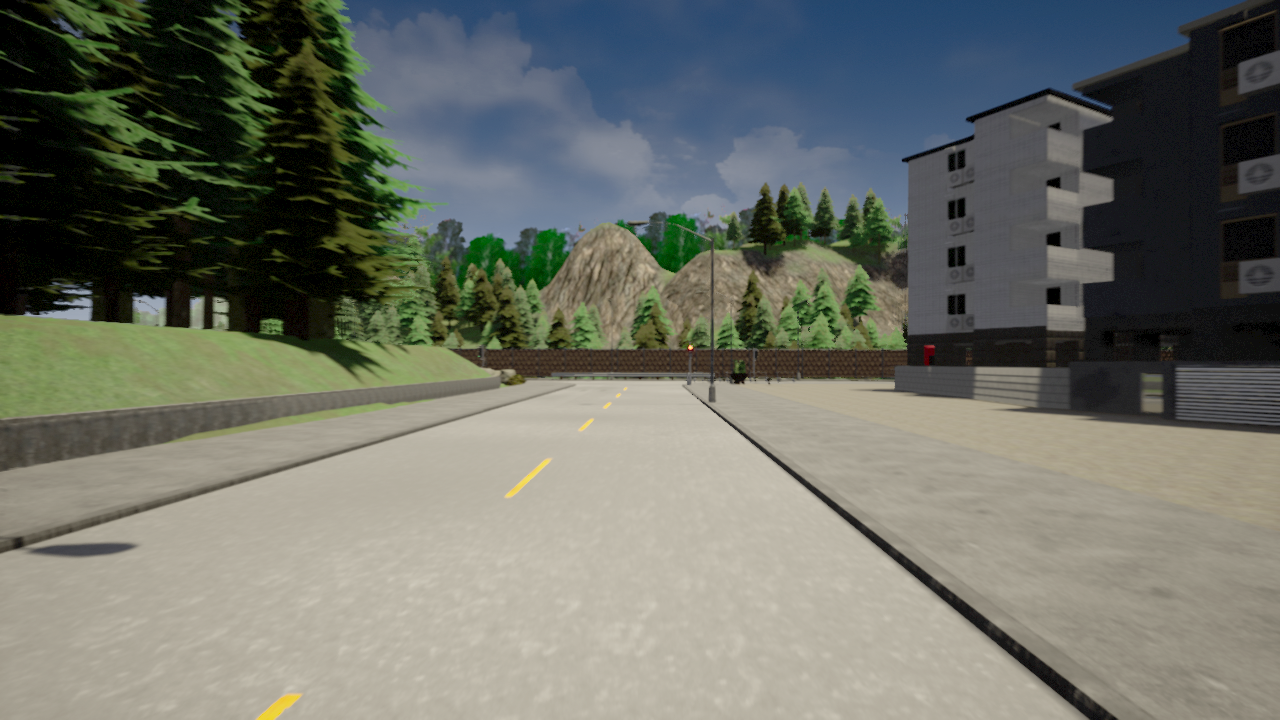red: (687, 344, 694, 360)
